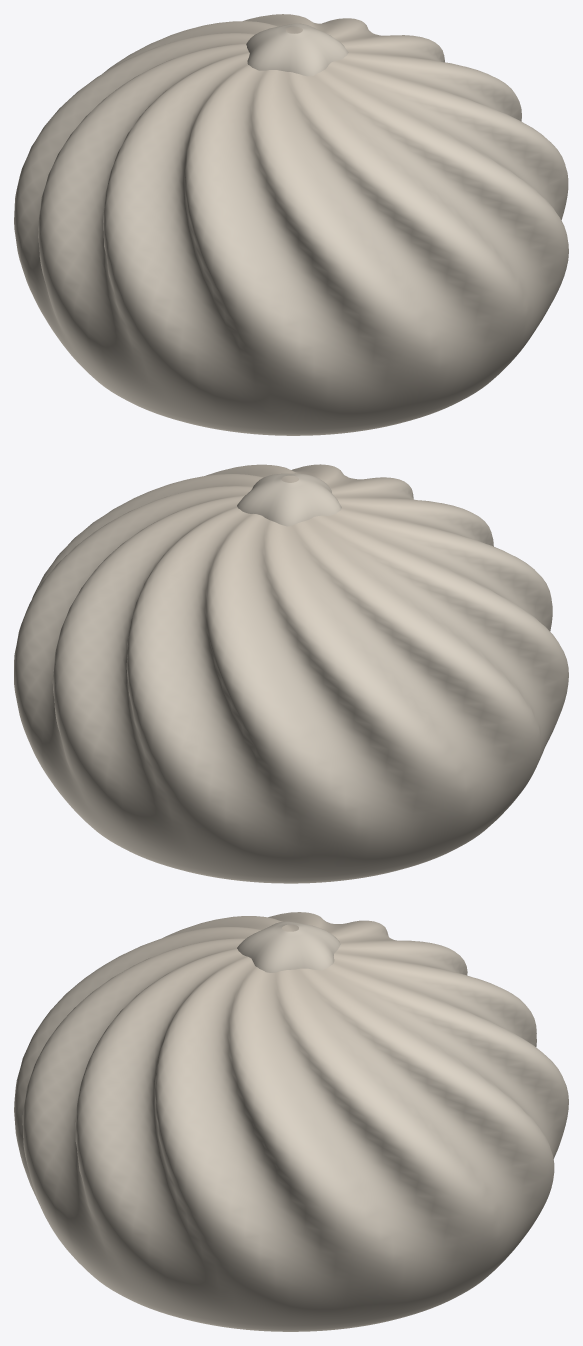
File: dumpling.glb
The picture shows the model from 3 angles, top to bottom: view 1: azimuth 30°, elevation 25°; view 2: azimuth 150°, elevation 25°; view 3: azimuth 270°, elevation 25°; orthographic projection.
Parts seen in each view (by area): view 1: DumplingBody; view 2: DumplingBody; view 3: DumplingBody.
Part boxes in pixels (x1,y1,x2,y2): DumplingBody: (14,14,568,435); DumplingBody: (14,464,568,883); DumplingBody: (14,912,568,1331).
Bounding box in the file's own units: 2.18 × 1.45 × 2.18.
